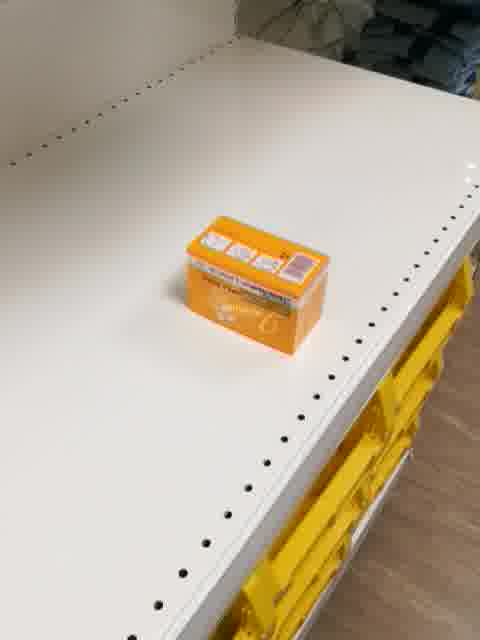jasminetea: (182, 214, 331, 357)
